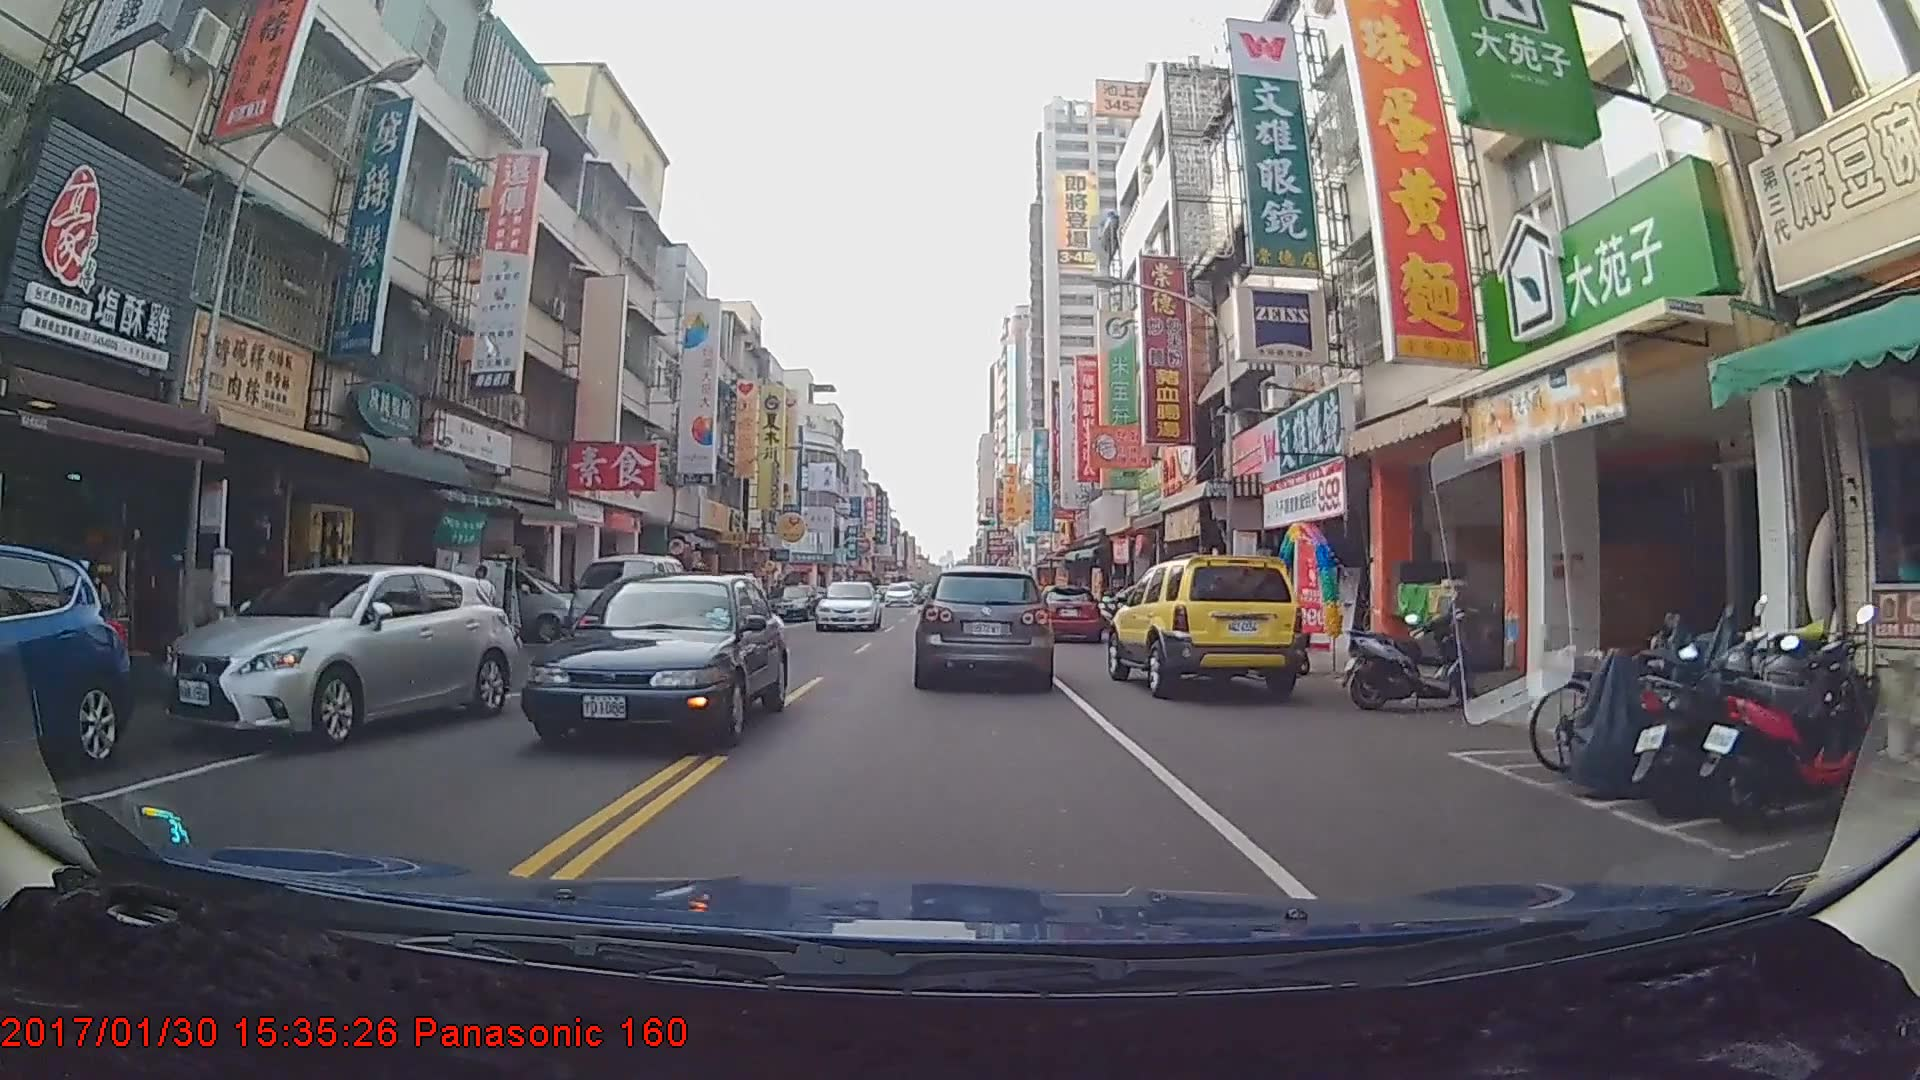vehicle: (160, 566, 518, 750), (513, 568, 795, 744), (0, 541, 138, 789), (1112, 547, 1305, 698), (919, 563, 1051, 687), (566, 554, 684, 657), (1031, 585, 1101, 642), (812, 579, 880, 632), (885, 584, 914, 608)
